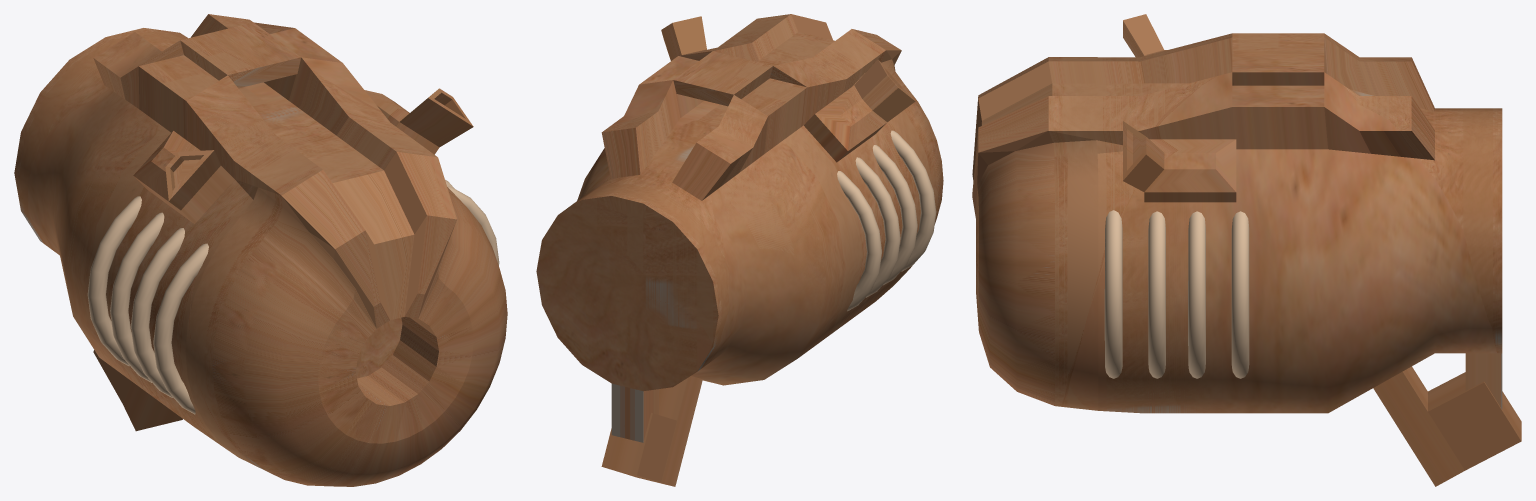
File: gun2.FBX
The picture shows the model from 3 angles, left to right: view 1: azimuth 30°, elevation 25°; view 2: azimuth 150°, elevation 25°; view 3: azimuth 270°, elevation 25°; orthographic projection. The views are drawn at different scales.
Parts seen in each view (by area): view 1: Cylinder001, Torus003, Torus001, Torus004, Torus002, Torus005; view 2: Cylinder001, Torus001, Torus003, Torus002, Torus004; view 3: Cylinder001, Torus007, Torus005, Torus008, Torus006.
Part boxes in pixels (left/top/right/bottom): Cylinder001: left=14, top=14, right=507, bottom=486; Torus003: left=153, top=243, right=208, bottom=414; Torus001: left=87, top=196, right=141, bottom=366; Torus004: left=130, top=228, right=184, bottom=397; Torus002: left=110, top=212, right=164, bottom=382; Torus005: left=447, top=186, right=499, bottom=265; Cylinder001: left=536, top=14, right=943, bottom=486; Torus001: left=837, top=171, right=881, bottom=311; Torus003: left=890, top=130, right=936, bottom=271; Torus002: left=855, top=157, right=900, bottom=297; Torus004: left=872, top=145, right=917, bottom=285; Cylinder001: left=972, top=14, right=1521, bottom=486; Torus007: left=1231, top=211, right=1249, bottom=378; Torus005: left=1104, top=210, right=1122, bottom=378; Torus008: left=1148, top=211, right=1165, bottom=378; Torus006: left=1188, top=211, right=1205, bottom=378.
Size of the model in its own units: 35.08 by 42.57 by 50.3.
Materials: 2 (1 with a texture image).
